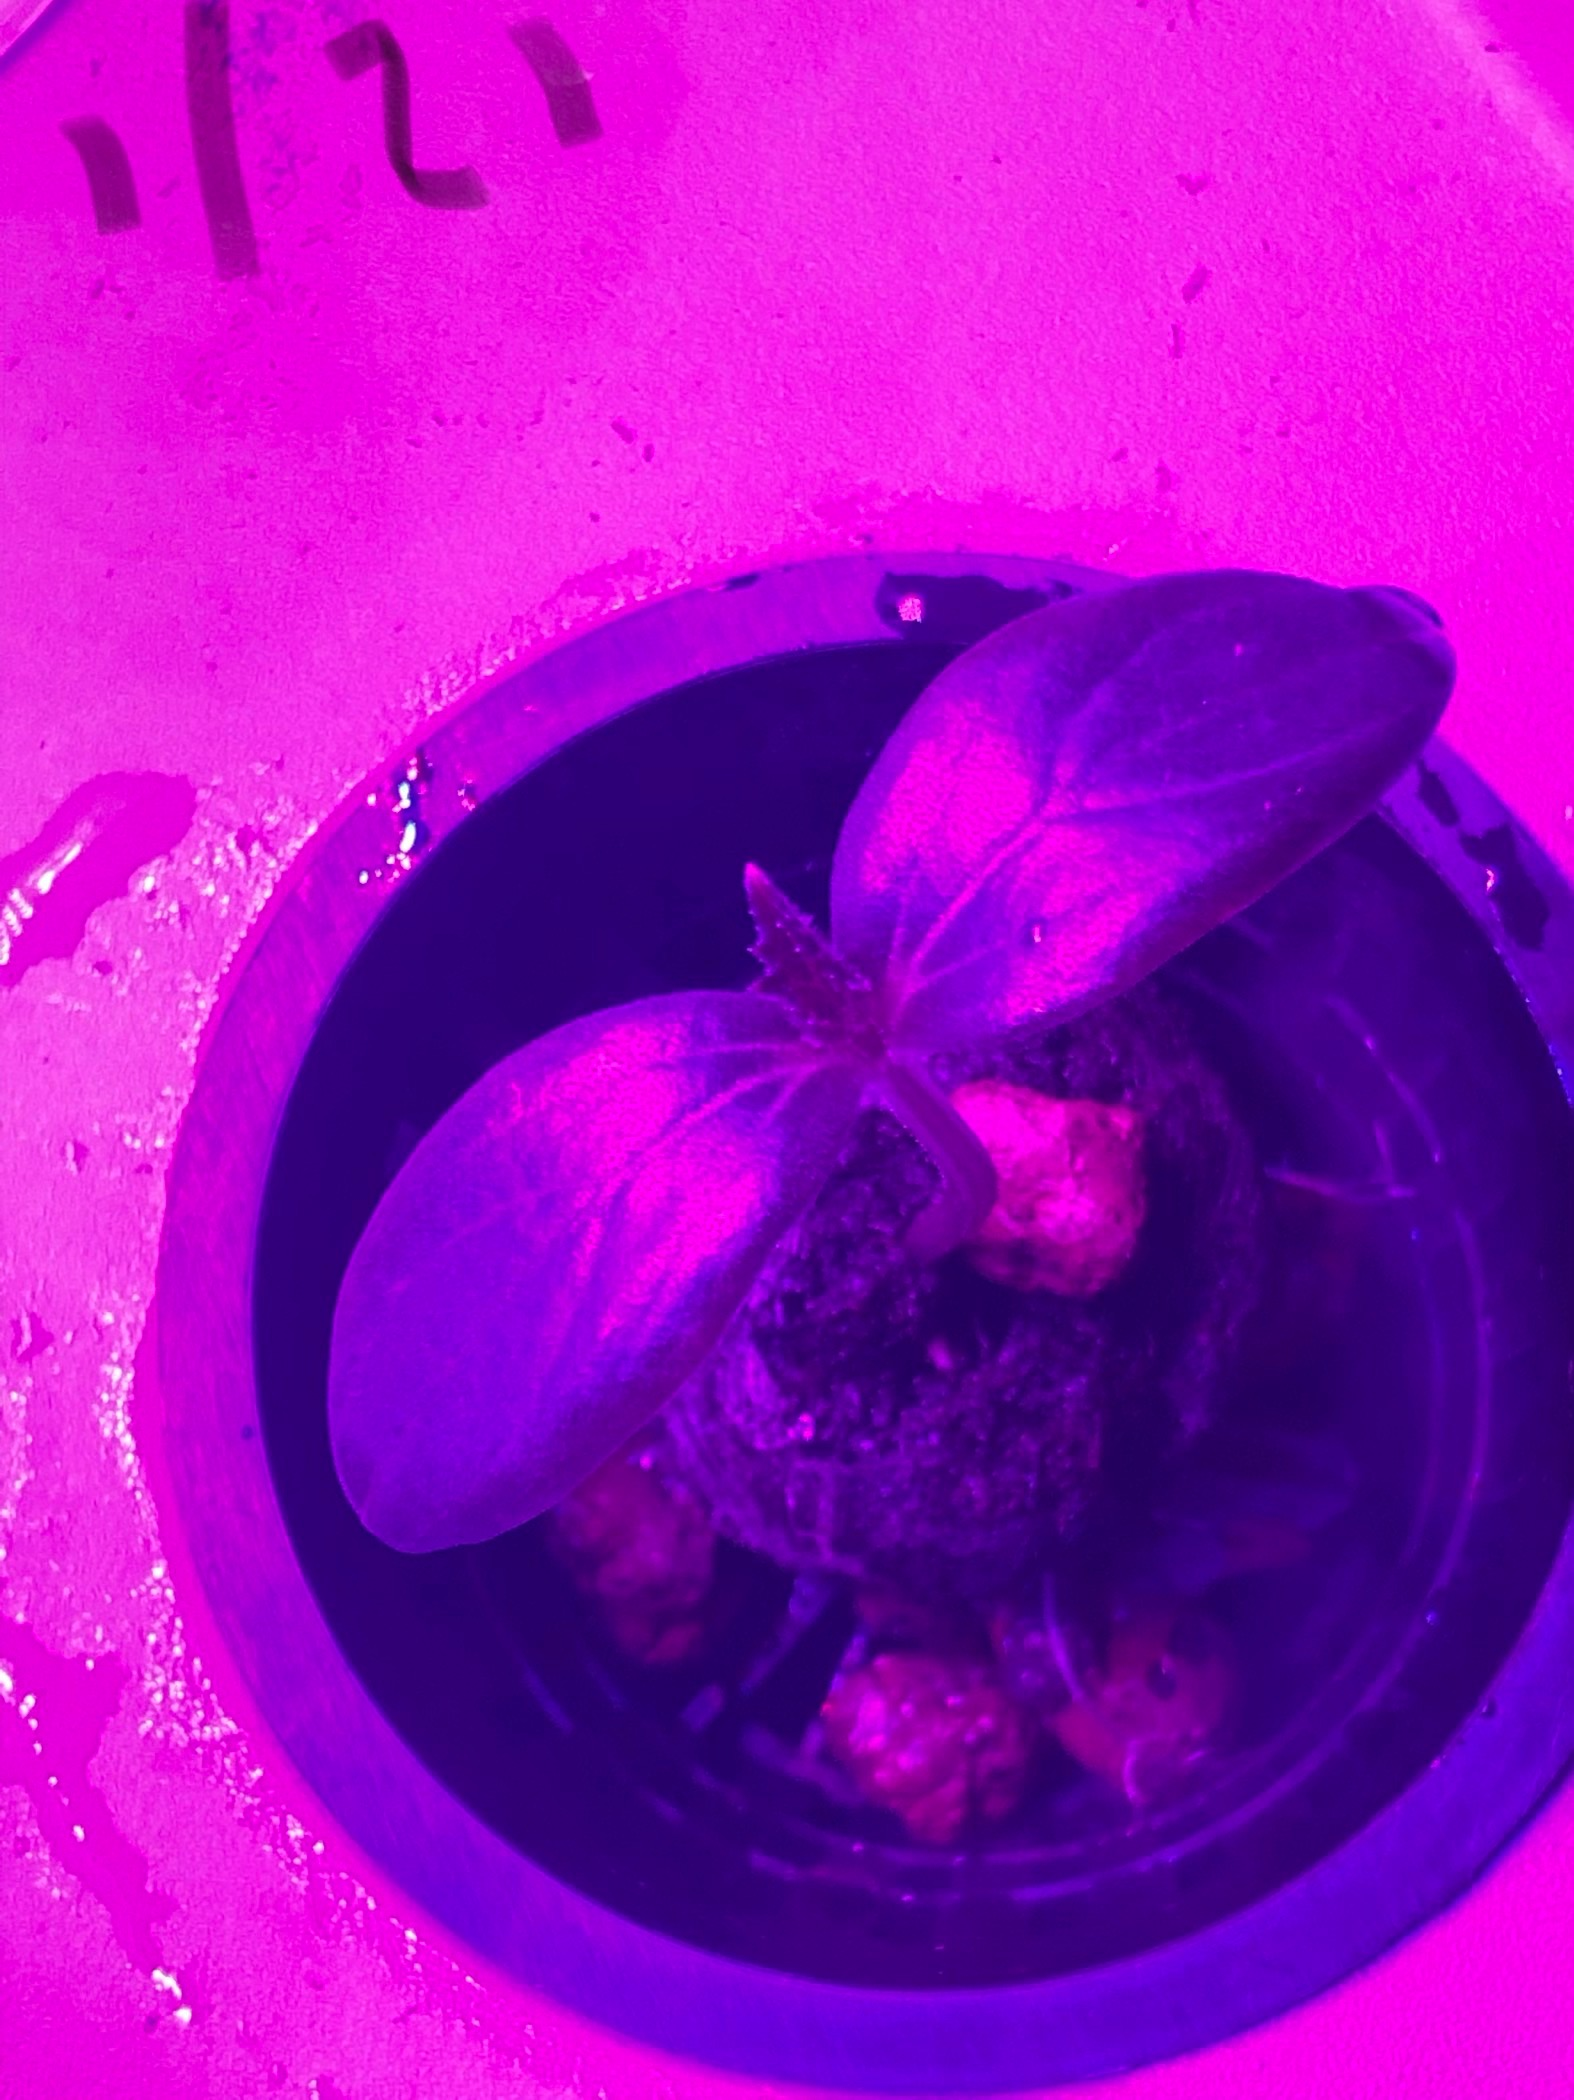cup: (185, 569, 1561, 2100)
lil_plant: (360, 597, 1410, 1577)
